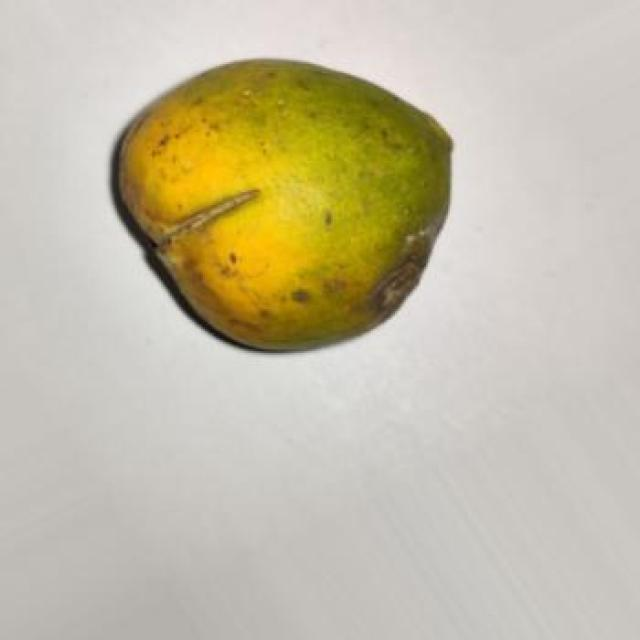damaged: (112, 59, 453, 357)
